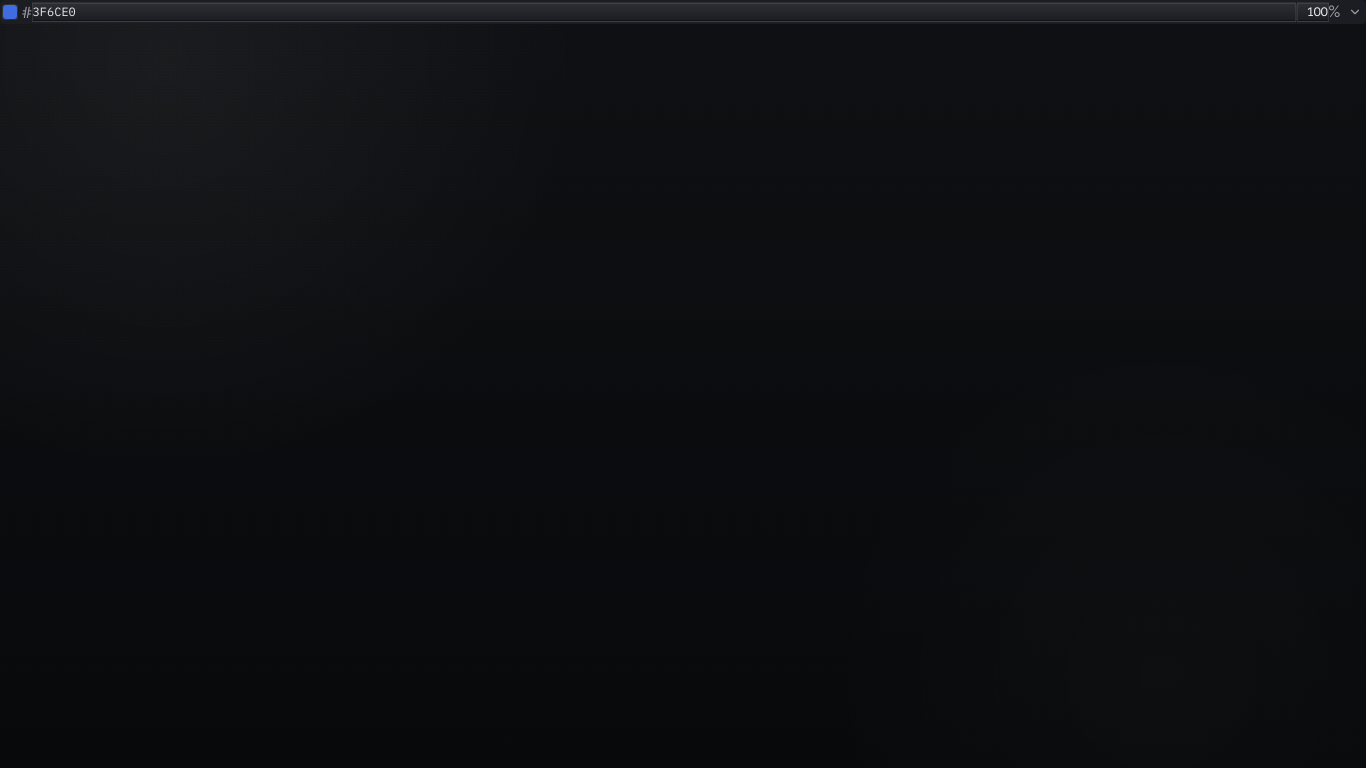
Test: StudioColorPicker › opens the same picker as a floating dialog from the swatch
Click the button named "Choose Paint color".
click(10, 12)  # box [2, 4, 18, 20]
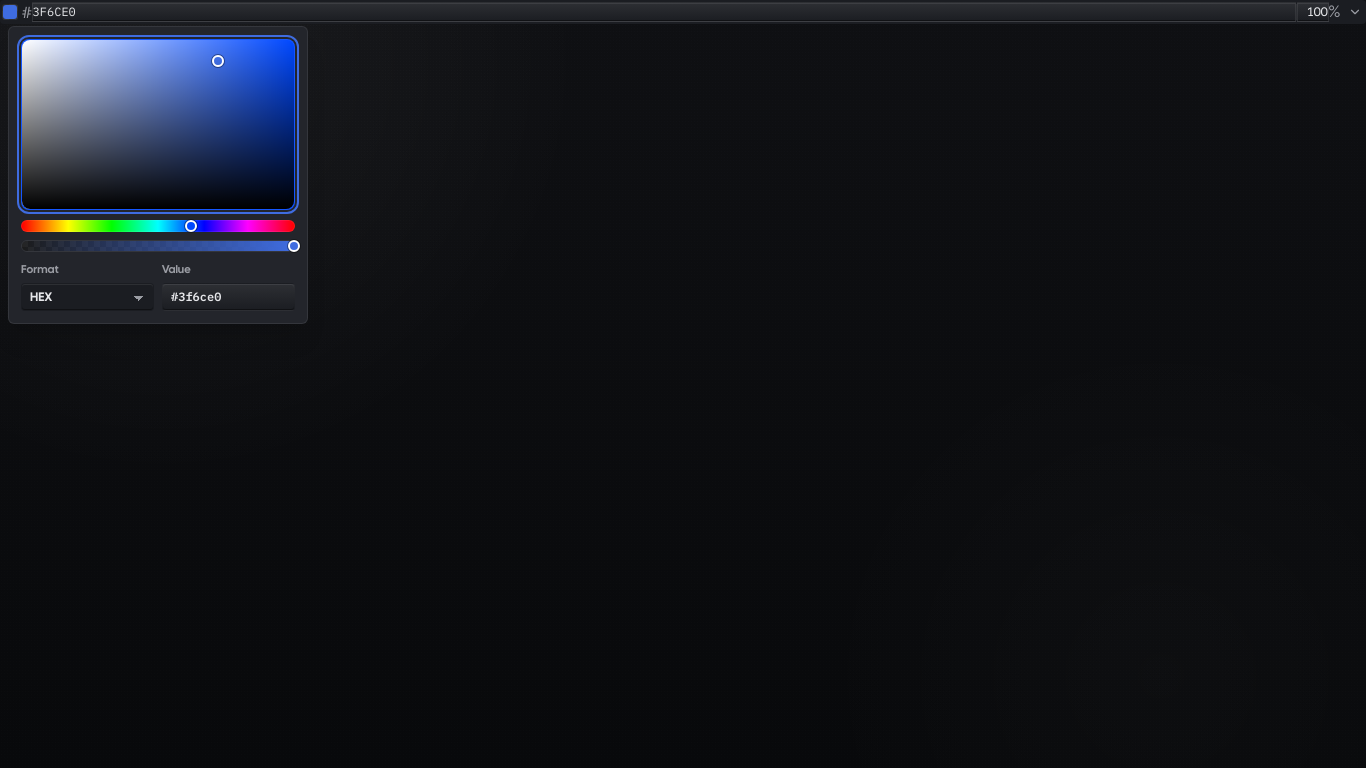
Check: the dialog named "Paint picker" is shown, box [8, 26, 308, 324]
Check: the element named "Paint hue" is shown, box [21, 39, 295, 311]
